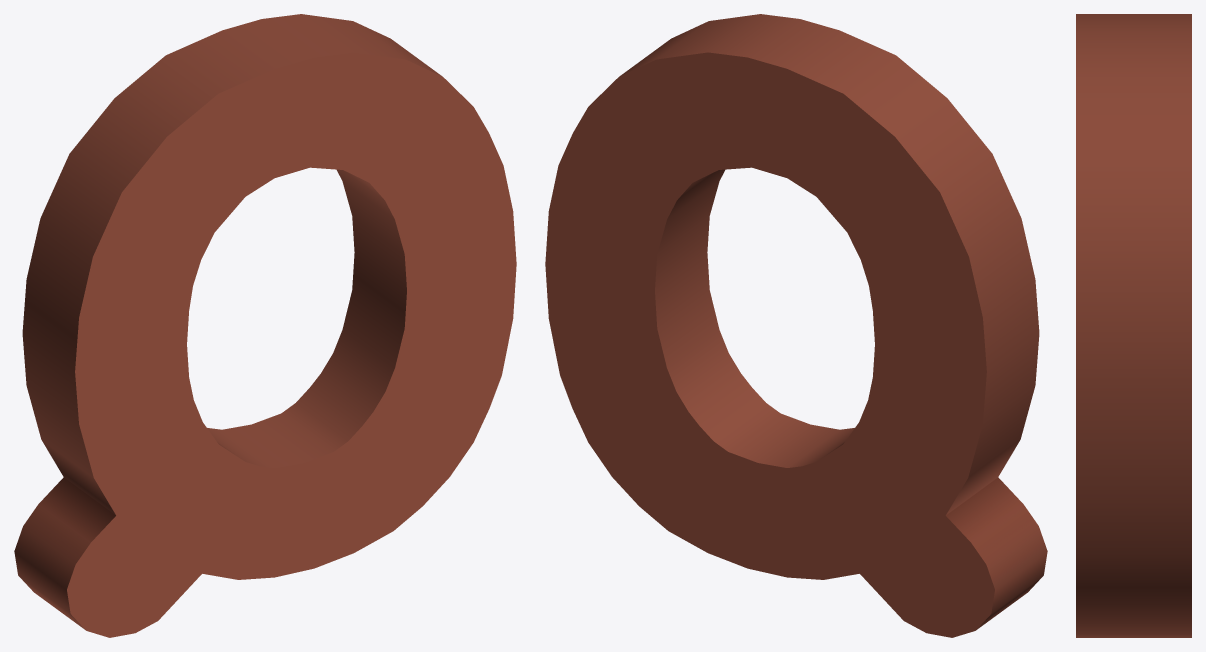
The model's file is TXL0110017.fbx.
The picture shows the model from 3 angles, left to right: view 1: azimuth 30°, elevation 25°; view 2: azimuth 150°, elevation 25°; view 3: azimuth 270°, elevation 25°; orthographic projection. The views are drawn at different scales.
Parts seen in each view (by area): view 1: smTXL0110017; view 2: smTXL0110017; view 3: smTXL0110017.
Part boxes in pixels (<box>): smTXL0110017: <box>14,14,516,637</box>; smTXL0110017: <box>545,14,1047,637</box>; smTXL0110017: <box>1076,14,1191,637</box>.
Bounding box in the file's own units: 106 × 120 × 21.41.
1 material, 1 textured.
